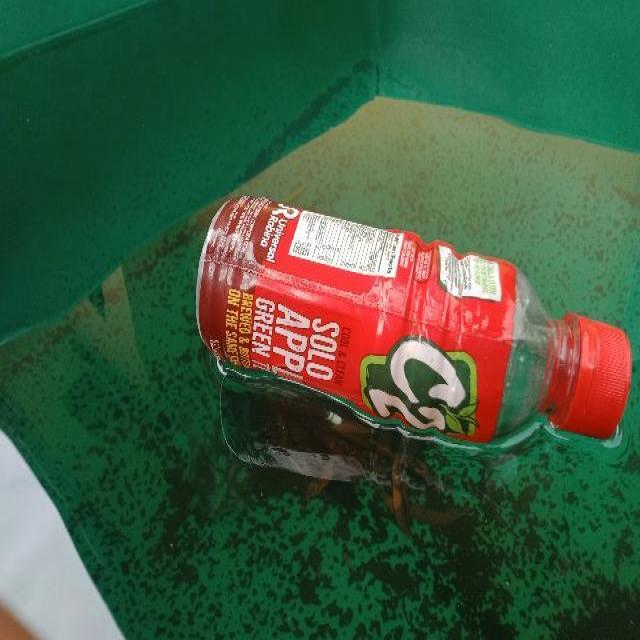Bottle: (161, 137, 640, 473)
